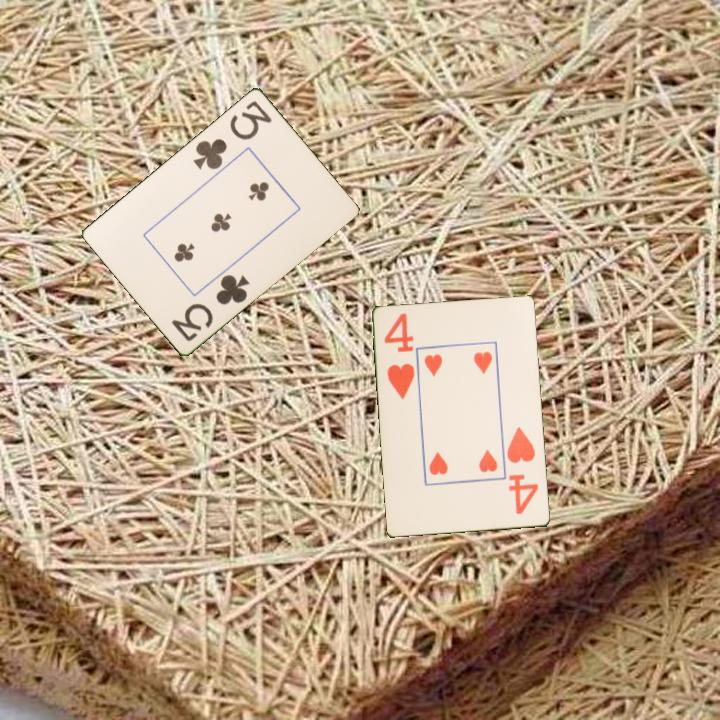3c: (189, 96, 275, 172), (168, 270, 253, 344)
4h: (504, 424, 542, 517), (381, 310, 417, 402)
